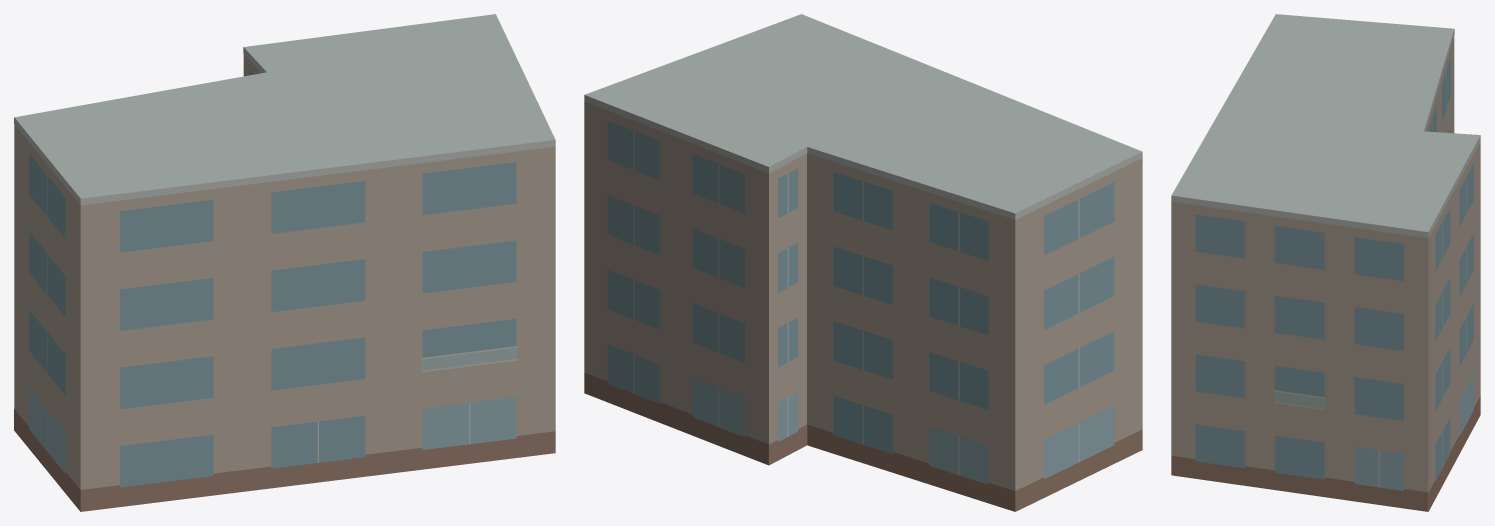
The model's file is survey-upis-32946514.glb.
The picture shows the model from 3 angles, left to right: view 1: azimuth 30°, elevation 25°; view 2: azimuth 150°, elevation 25°; view 3: azimuth 270°, elevation 25°; orthographic projection. The views are drawn at different scales.
Parts seen in each view (by area): view 1: survey-upis-32946514.tmp; view 2: survey-upis-32946514.tmp; view 3: survey-upis-32946514.tmp.
Boxes of the visible parts, bbox=[...] form: survey-upis-32946514.tmp: bbox=[14, 14, 555, 511]; survey-upis-32946514.tmp: bbox=[584, 14, 1142, 511]; survey-upis-32946514.tmp: bbox=[1171, 14, 1480, 511].
Bounding box in the file's own units: 18.88 × 11.28 × 11.31.
